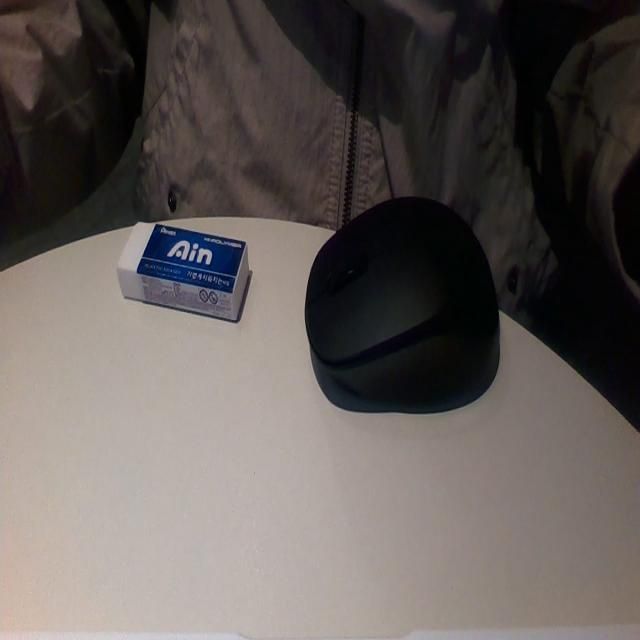eraser: (104, 224, 258, 314)
mouse: (293, 193, 522, 424)
